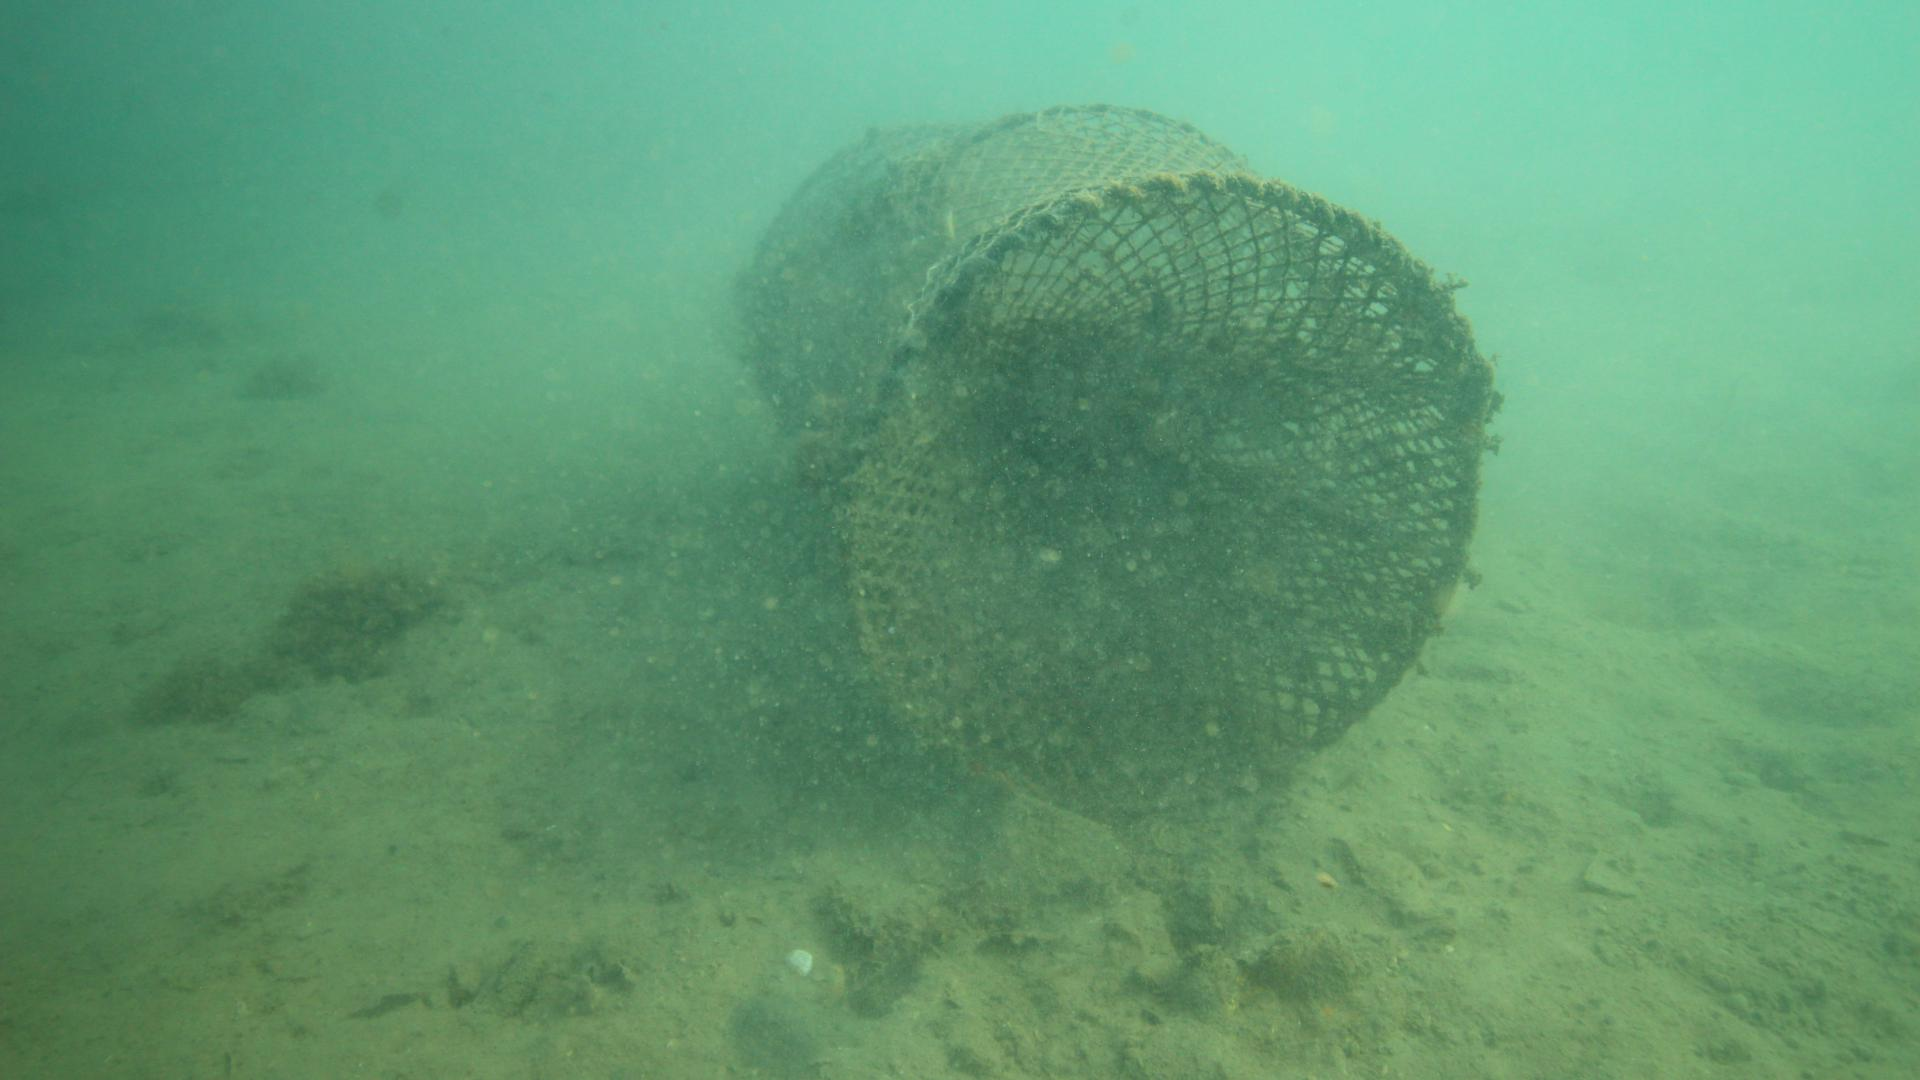spring fish trap: (744, 102, 1498, 824)
